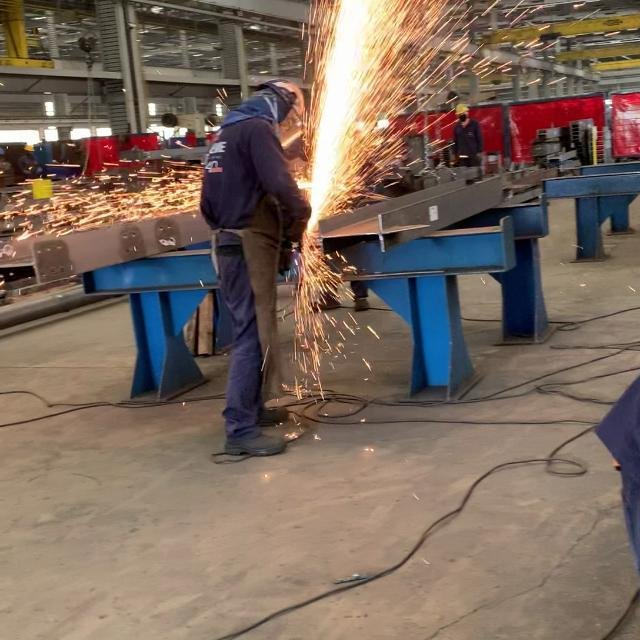eye-glass: (272, 107, 309, 150)
glove: (258, 81, 306, 116)
mask: (198, 81, 309, 456)
safety-shoe: (228, 432, 291, 455), (254, 406, 291, 427)
